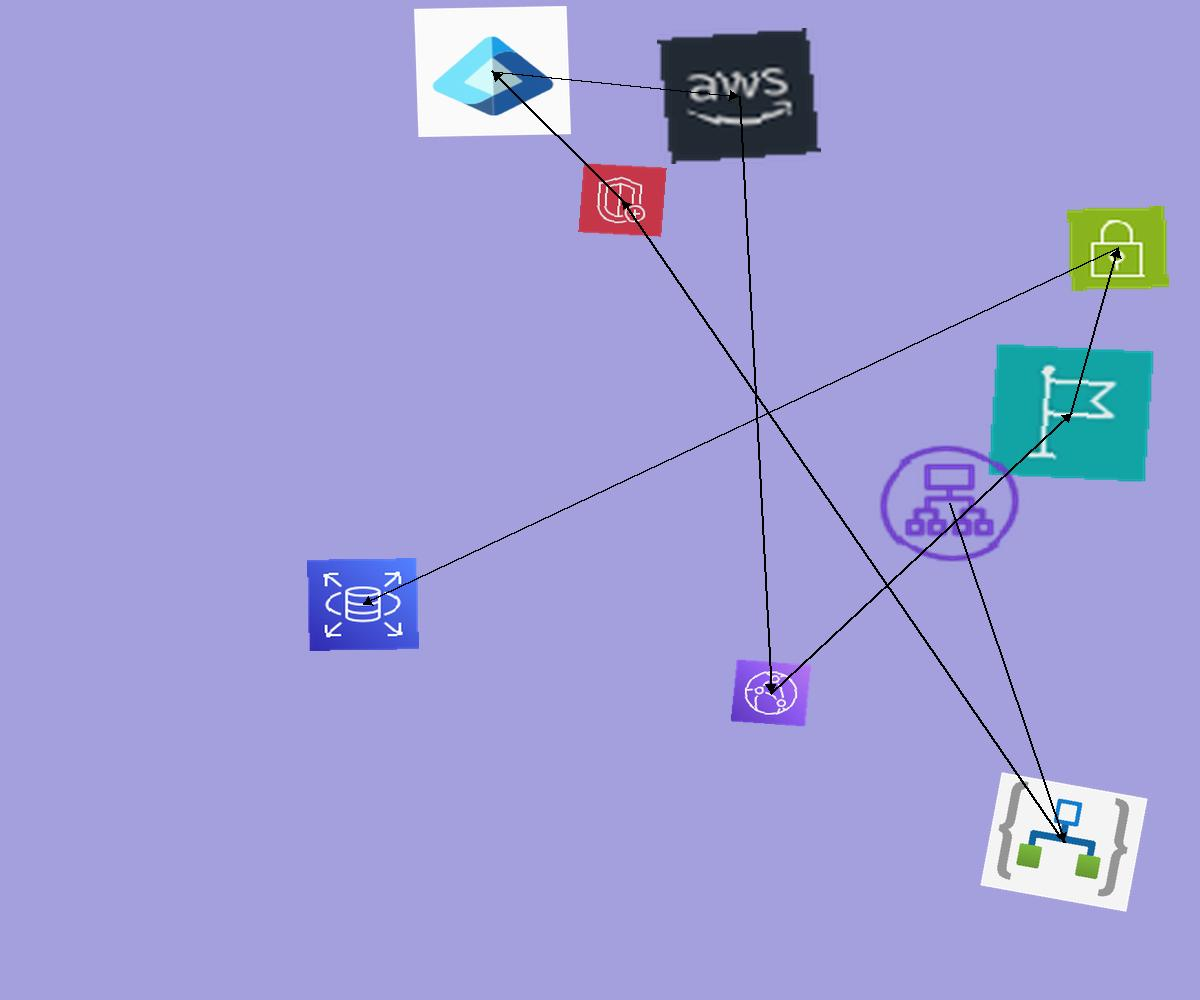AWS-Cloud-logo: (657, 28, 821, 164)
AWS-CloudFront: (730, 659, 812, 727)
AWS-Public-subnet: (1067, 206, 1169, 291)
AWS-RDS: (307, 558, 419, 651)
AWS-Region: (987, 343, 1155, 483)
AWS-Res_Elastic-Load-Balancing_Application-Load-Balancer: (871, 438, 1028, 569)
AWS-Shield: (578, 163, 667, 237)
Azure_integration-204-Logic-Apps: (980, 772, 1148, 912)
Azure_microsoft_entra: (414, 6, 571, 137)
